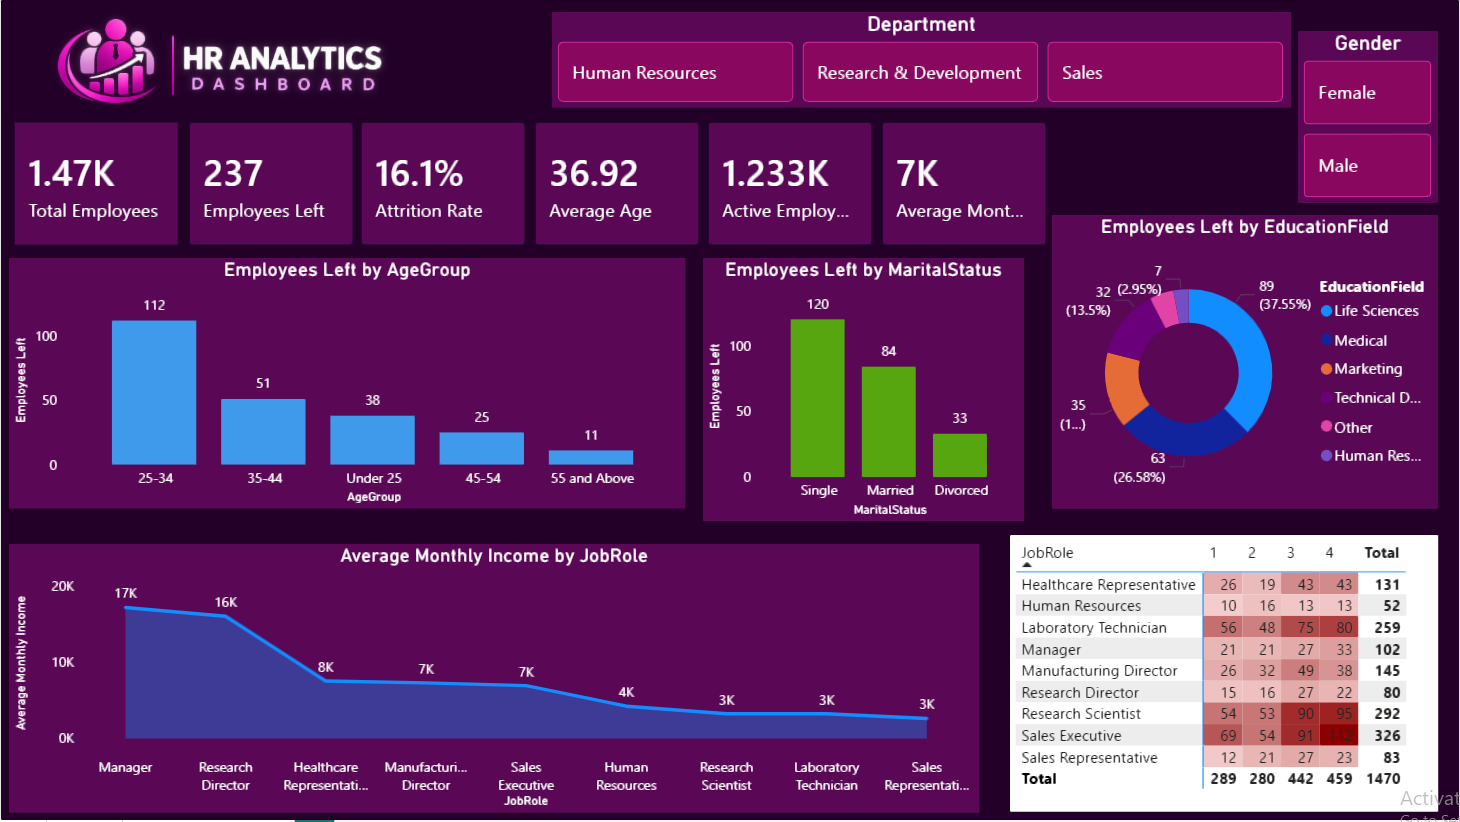

The page's visual inventory and layout, read from the dashboard file:
{"tool":"powerbi","page":{"name":"HR Analytics Dashboard","canvas":[1280,720],"ordinal":2},"visuals":[{"type":"cardVisual","fields":{"Data":["HR-Employee-Attrition.Total Employees"]},"box":[7.3,102.8,153.3,117.5],"z":1000},{"type":"clusteredColumnChart","fields":{"Category":["HR-Employee-Attrition.AgeGroup"],"Y":["HR-Employee-Attrition.Employees Left"]},"box":[7.3,226.8,594.1,220.4],"z":2000},{"type":"clusteredColumnChart","fields":{"Category":["HR-Employee-Attrition.MaritalStatus"],"Y":["HR-Employee-Attrition.Employees Left"]},"box":[616.1,226.8,281.9,231.4],"z":3000},{"type":"donutChart","fields":{"Category":["HR-Employee-Attrition.EducationField"],"Y":["HR-Employee-Attrition.Employees Left"]},"box":[922.8,188.8,338.9,258.1],"z":4000},{"type":"stackedAreaChart","fields":{"Category":["HR-Employee-Attrition.JobRole"],"Y":["HR-Employee-Attrition.Average Monthly Income"]},"box":[7.3,477.5,852.1,236],"z":5000},{"type":"advancedSlicerVisual","fields":{"Values":["HR-Employee-Attrition.Department"]},"box":[483.9,10.1,649.2,84.5],"z":6000},{"type":"advancedSlicerVisual","fields":{"Values":["HR-Employee-Attrition.Gender"]},"box":[1138.8,27.2,122.9,151],"z":7000},{"type":"pivotTable","fields":{"Rows":["HR-Employee-Attrition.JobRole"],"Columns":["HR-Employee-Attrition.JobSatisfaction"],"Values":["CountNonNull(HR-Employee-Attrition.EmployeeNumber)"]},"box":[886.1,470.1,375.6,243.3],"z":8000},{"type":"cardVisual","fields":{"Data":["HR-Employee-Attrition.Employees Left"]},"box":[160.7,102.8,153.3,117.5],"z":9000},{"type":"cardVisual","fields":{"Data":["HR-Employee-Attrition.Attrition Rate"]},"box":[311.3,102.8,153.3,117.5],"z":10000},{"type":"cardVisual","fields":{"Data":["HR-Employee-Attrition.Average Age"]},"box":[464.6,102.8,153.3,117.5],"z":11000},{"type":"cardVisual","fields":{"Data":["HR-Employee-Attrition.Active Employees"]},"box":[616.1,102.8,153.3,117.5],"z":12000},{"type":"cardVisual","fields":{"Data":["HR-Employee-Attrition.Average Monthly Income"]},"box":[769.5,102.8,153.3,117.5],"z":13000},{"type":"image","box":[0,0,380.2,113.3],"z":13001}]}

Visuals, with their boxes in screenshot pixels (x1, y1, x2, y2), scaled from the page's 1280x720 canvas onto the 1460x822 screenshot:
cardVisual - HR-Employee-Attrition.Total Employees: region(8, 117, 183, 252)
clusteredColumnChart - HR-Employee-Attrition.AgeGroup x HR-Employee-Attrition.Employees Left: region(8, 259, 686, 511)
clusteredColumnChart - HR-Employee-Attrition.MaritalStatus x HR-Employee-Attrition.Employees Left: region(703, 259, 1024, 523)
donutChart - HR-Employee-Attrition.EducationField x HR-Employee-Attrition.Employees Left: region(1053, 216, 1439, 510)
stackedAreaChart - HR-Employee-Attrition.JobRole x HR-Employee-Attrition.Average Monthly Income: region(8, 545, 980, 815)
advancedSlicerVisual - HR-Employee-Attrition.Department: region(552, 12, 1292, 108)
advancedSlicerVisual - HR-Employee-Attrition.Gender: region(1299, 31, 1439, 203)
pivotTable - HR-Employee-Attrition.JobRole x HR-Employee-Attrition.JobSatisfaction: region(1011, 537, 1439, 814)
cardVisual - HR-Employee-Attrition.Employees Left: region(183, 117, 358, 252)
cardVisual - HR-Employee-Attrition.Attrition Rate: region(355, 117, 530, 252)
cardVisual - HR-Employee-Attrition.Average Age: region(530, 117, 705, 252)
cardVisual - HR-Employee-Attrition.Active Employees: region(703, 117, 878, 252)
cardVisual - HR-Employee-Attrition.Average Monthly Income: region(878, 117, 1053, 252)
image: region(0, 0, 434, 129)
